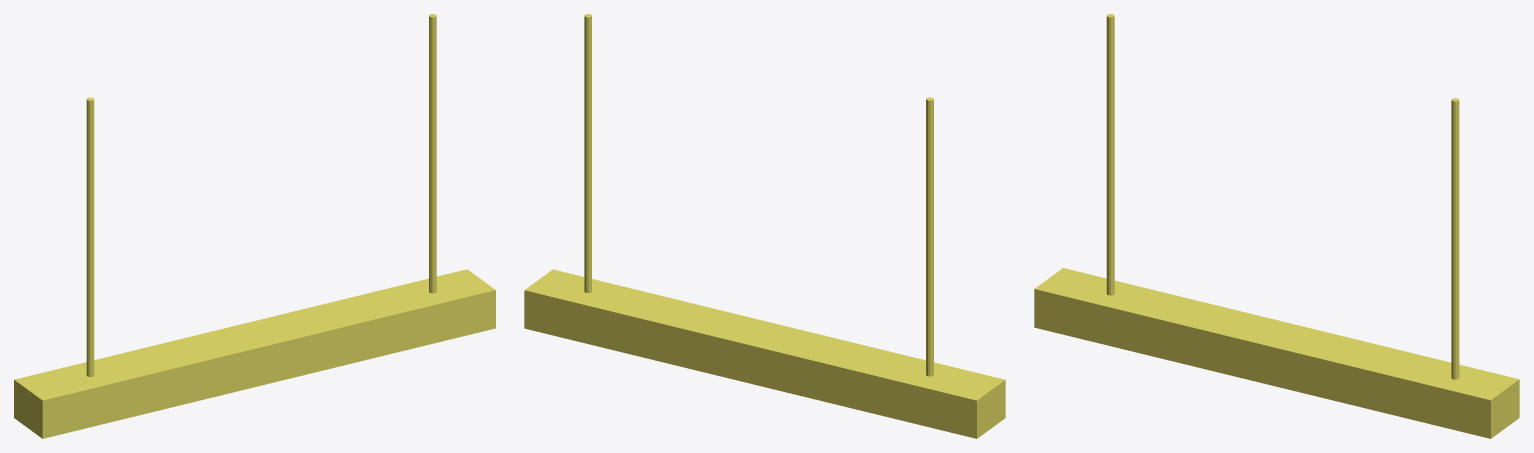
File: Lamp1.fbx
3 renders of one model, left to right at view 1: azimuth 30°, elevation 25°; view 2: azimuth 150°, elevation 25°; view 3: azimuth 330°, elevation 25°, orthographic.
Parts seen in each view (by area): view 1: lamp.001; view 2: lamp.001; view 3: lamp.001.
Part boxes in pixels (left/top/right/bottom): lamp.001: left=14, top=14, right=495, bottom=438; lamp.001: left=524, top=14, right=1005, bottom=438; lamp.001: left=1034, top=14, right=1519, bottom=438.
Bounding box in the file's own units: 200 × 133 × 21.83.
